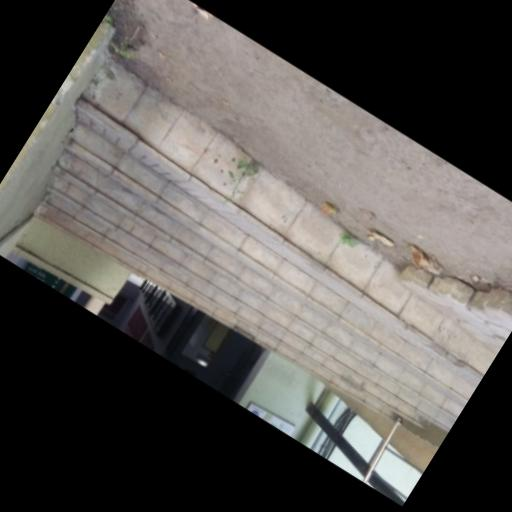stairs: (40, 63, 493, 430)
